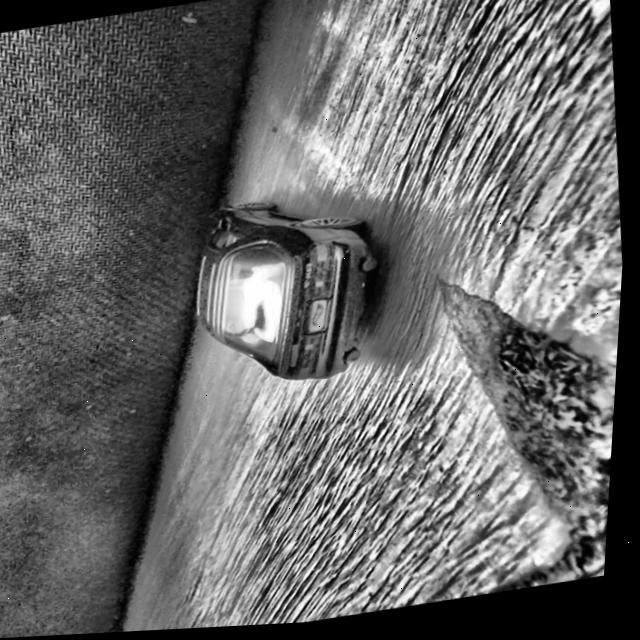car: (183, 183, 398, 400)
